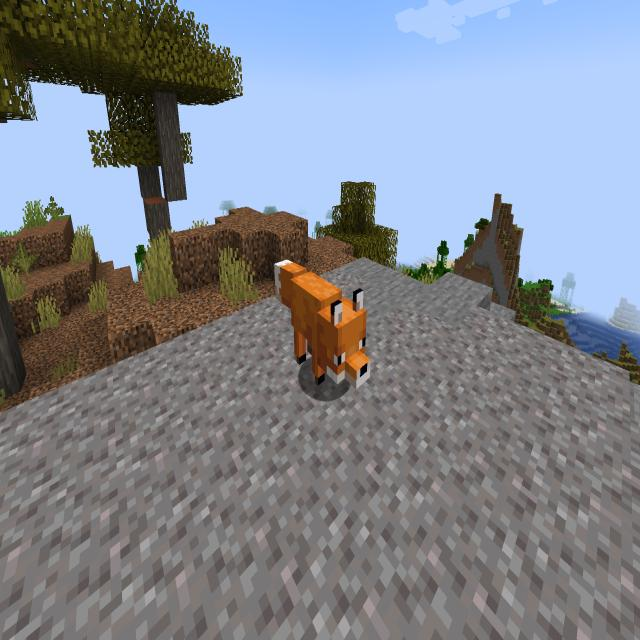Fox: (270, 247, 378, 407)
